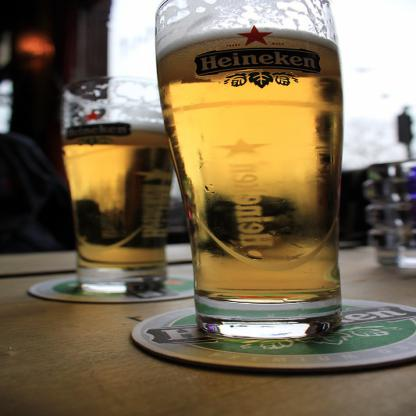drinking: (155, 0, 342, 339), (62, 77, 182, 293)
